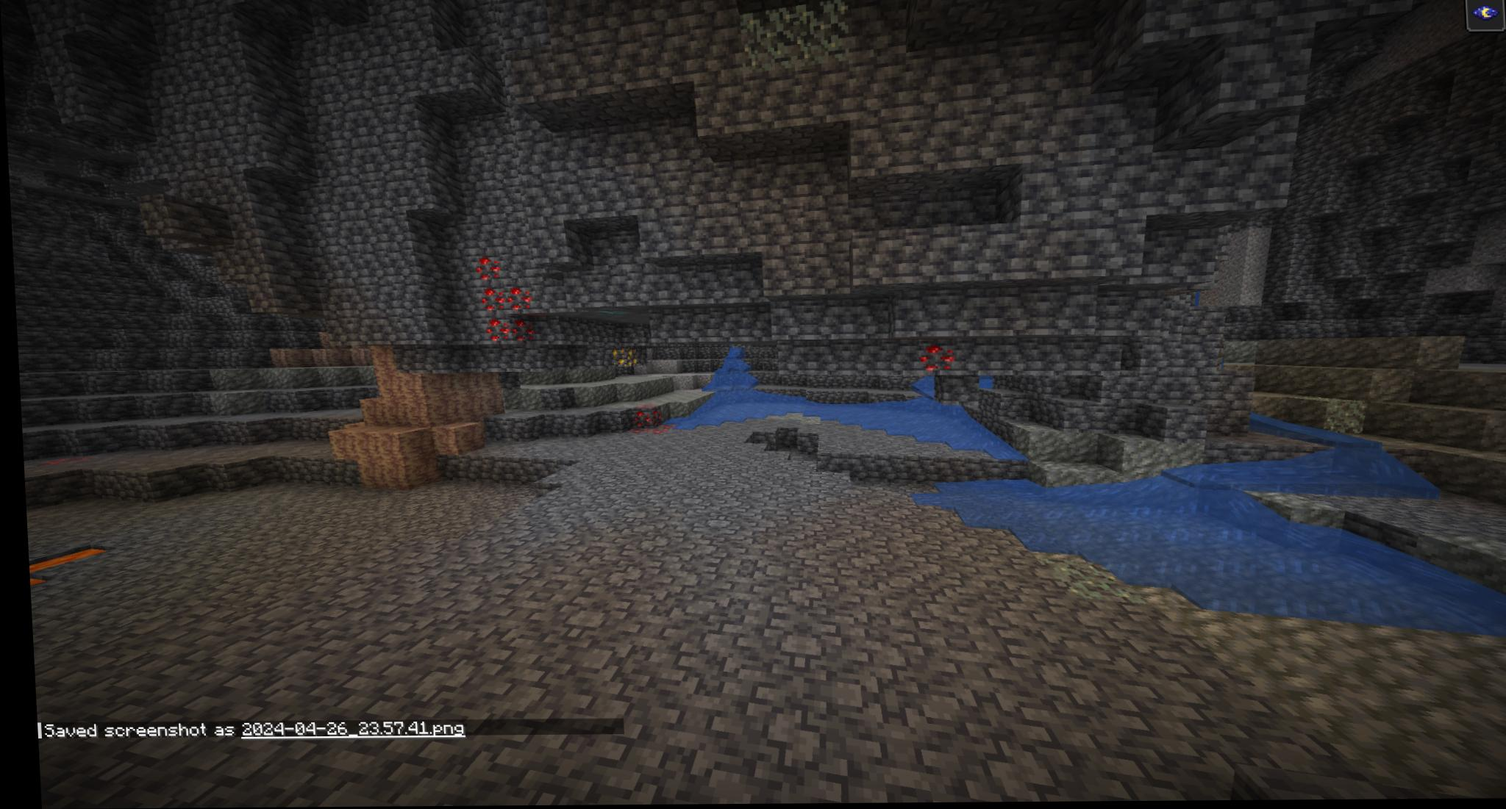diamond ore: (590, 304, 633, 322)
gold ore: (602, 342, 638, 375)
redstone ore: (469, 251, 532, 346), (910, 338, 957, 383), (29, 446, 92, 473), (625, 401, 665, 440)
